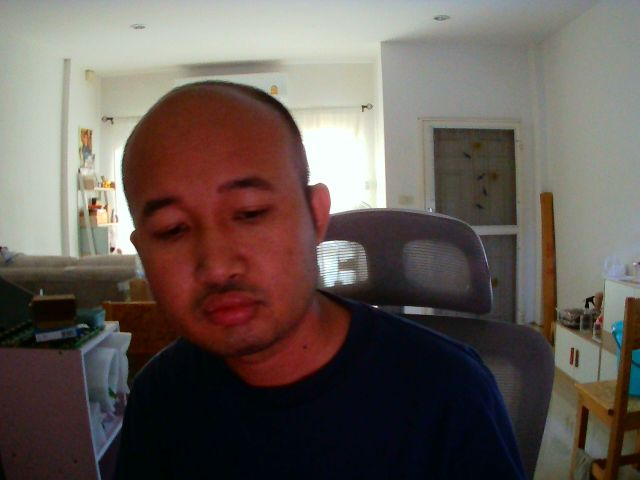face: (109, 78, 330, 361)
